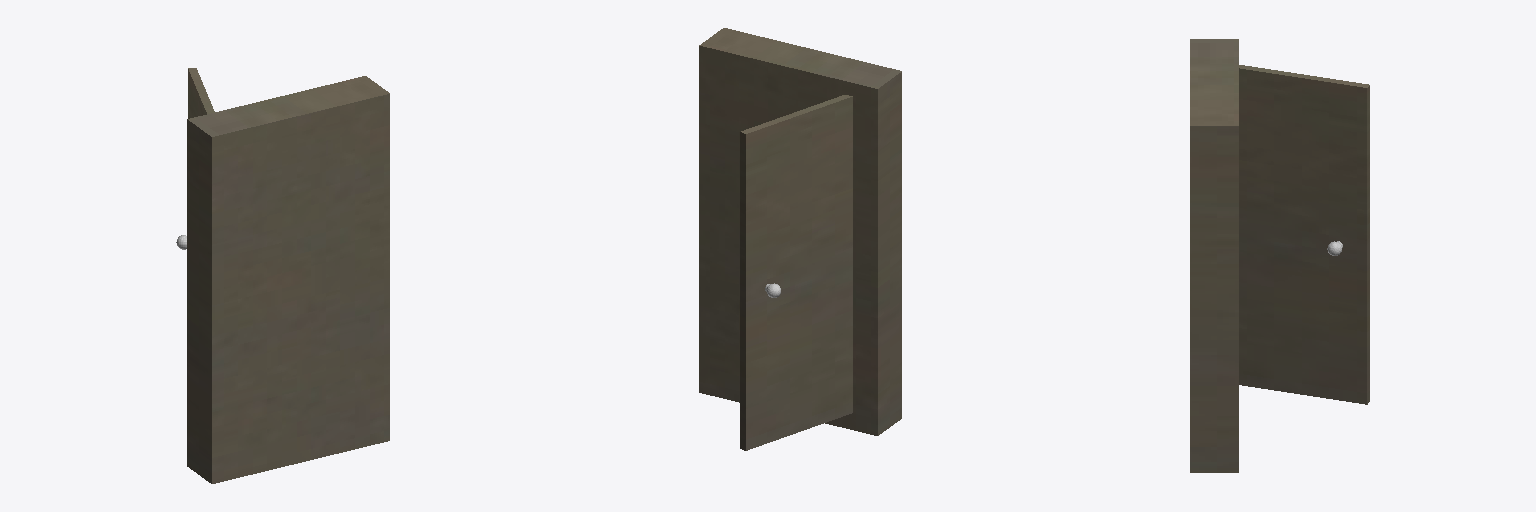
3 renders of one model, left to right at view 1: azimuth 30°, elevation 25°; view 2: azimuth 150°, elevation 25°; view 3: azimuth 270°, elevation 25°, orthographic.
Visible parts, largest first — view 1: DoorNonWatertightOpened.obj; view 2: DoorNonWatertightOpened.obj; view 3: DoorNonWatertightOpened.obj.
Part boxes in pixels (x1,y1,x2,y2): DoorNonWatertightOpened.obj: (176, 68, 389, 483); DoorNonWatertightOpened.obj: (699, 28, 901, 450); DoorNonWatertightOpened.obj: (1190, 39, 1369, 472).
Size of the model in its own units: 3.98 by 7.4 by 3.49.
Materials: 1 (1 with a texture image).